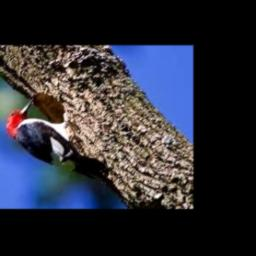Woodpecker: (6, 99, 109, 185)
